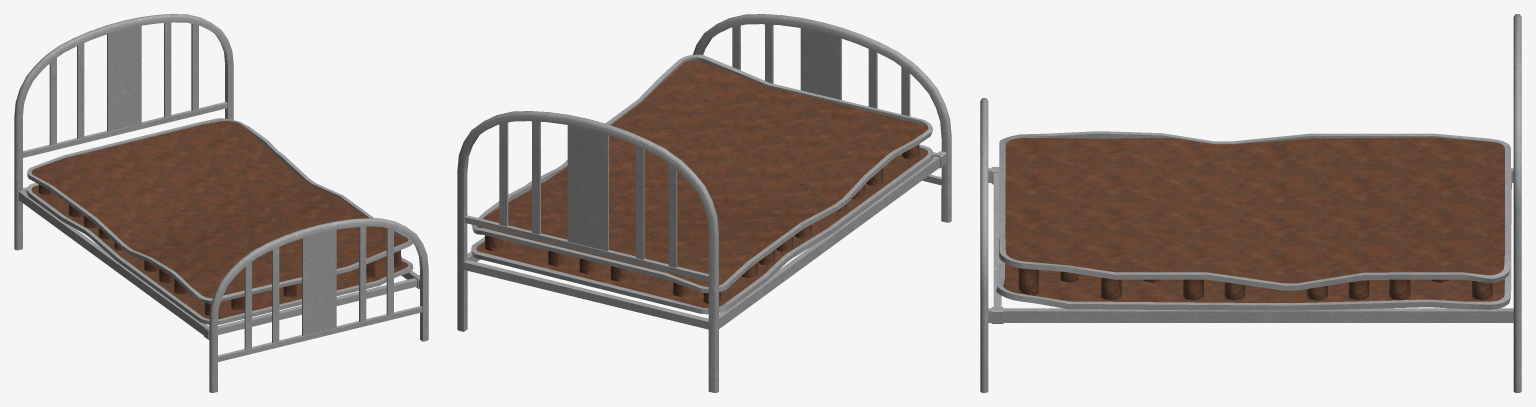
The model's file is SM_FAR_OldBed_01.fbx.
3 renders of one model, left to right at view 1: azimuth 30°, elevation 25°; view 2: azimuth 150°, elevation 25°; view 3: azimuth 270°, elevation 25°, orthographic. The views are drawn at different scales.
Visible parts, largest first — view 1: SM_FAR_OldBed_01.mo; view 2: SM_FAR_OldBed_01.mo; view 3: SM_FAR_OldBed_01.mo.
Part boxes in pixels (<box>): SM_FAR_OldBed_01.mo: <box>14,14,428,392</box>; SM_FAR_OldBed_01.mo: <box>457,14,951,392</box>; SM_FAR_OldBed_01.mo: <box>980,14,1521,392</box>.
Size of the model in its own units: 129 by 114 by 202.
